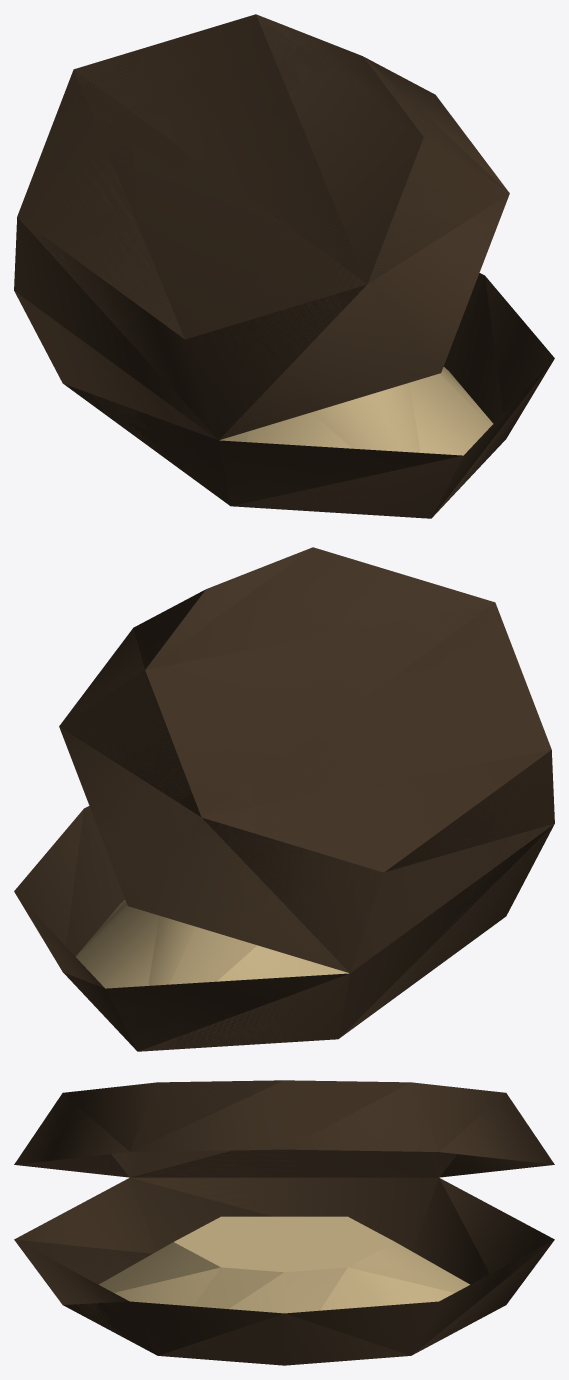
File: cc0-mussel.glb
3 renders of one model, top to bottom at view 1: azimuth 30°, elevation 25°; view 2: azimuth 150°, elevation 25°; view 3: azimuth 270°, elevation 25°, orthographic. The views are drawn at different scales.
Visible parts, largest first — view 1: cc0-mussel; view 2: cc0-mussel; view 3: cc0-mussel.
Part boxes in pixels (x1,y1,x2,y2): cc0-mussel: (14, 14, 554, 518); cc0-mussel: (14, 547, 554, 1051); cc0-mussel: (14, 1080, 554, 1365).
Size of the model in its own units: 0.0742 by 0.0621 by 0.12.
